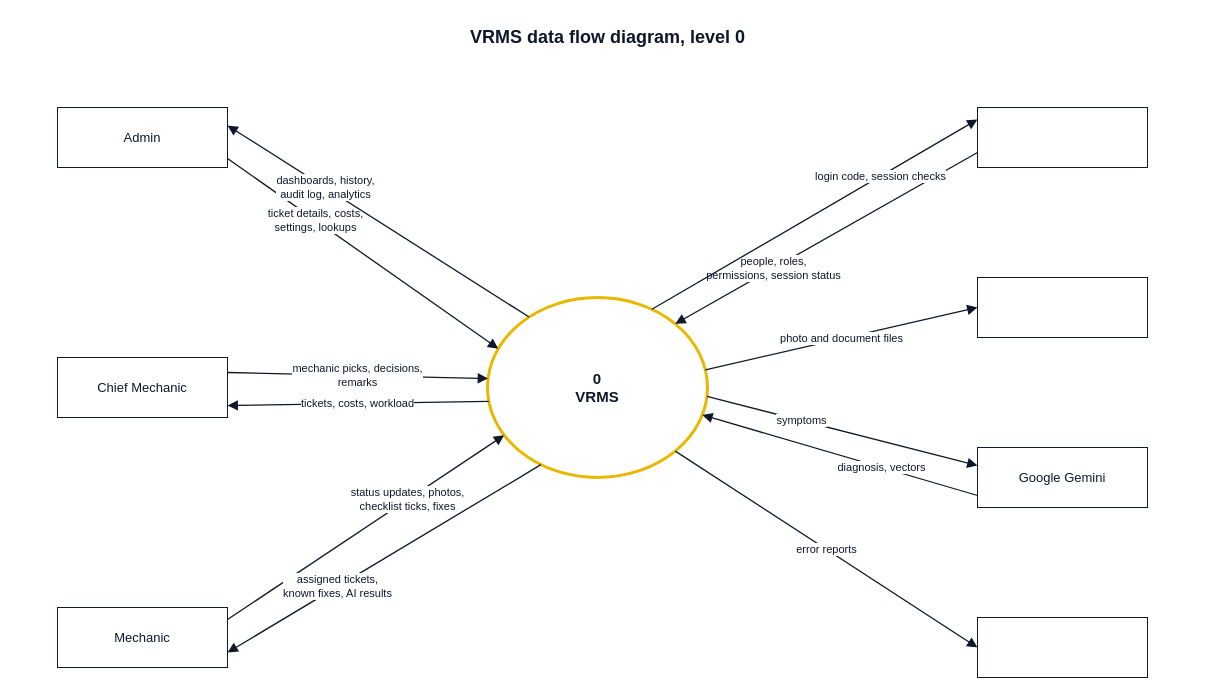
This 1214x695 diagram has some shape labels left out. The shapes that lost their labels are listed below. From the top down, each one's centre as x and y in pixels, then its label:
At point (1062, 137): "welinc-auth".
At point (1062, 307): "Azure Blob Storage".
At point (1062, 647): "Sentry".
